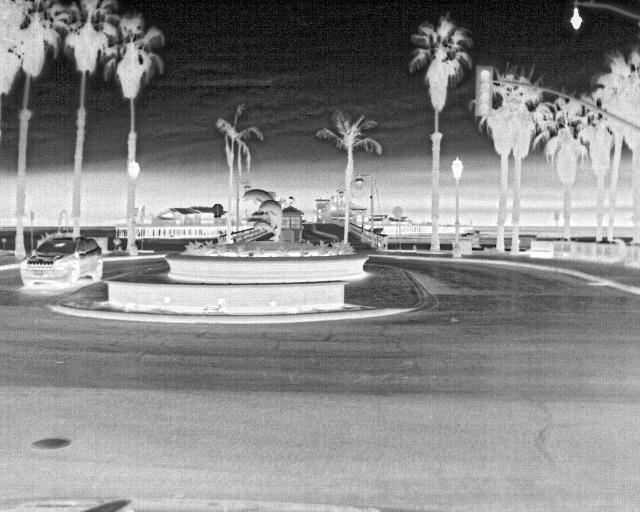car: (18, 237, 105, 291)
